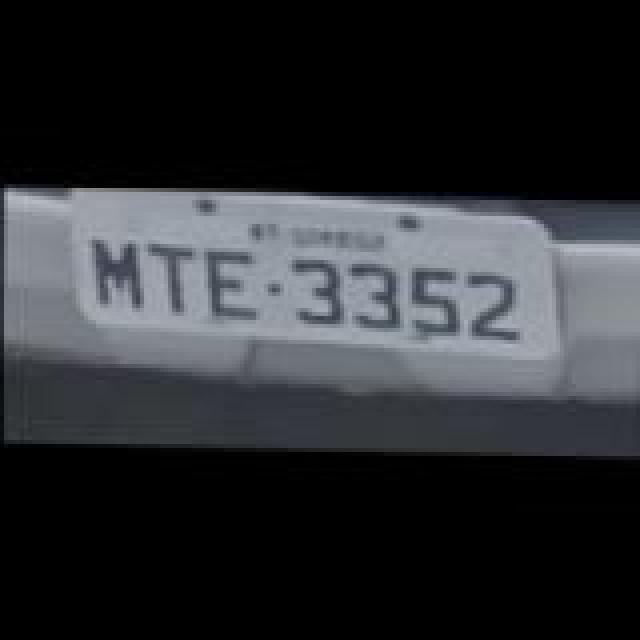2: (464, 272, 524, 340)
3: (290, 258, 346, 322), (352, 260, 404, 328)
5: (406, 266, 462, 334)
E: (200, 250, 260, 318)
M: (86, 236, 142, 308)
T: (148, 248, 200, 320)
